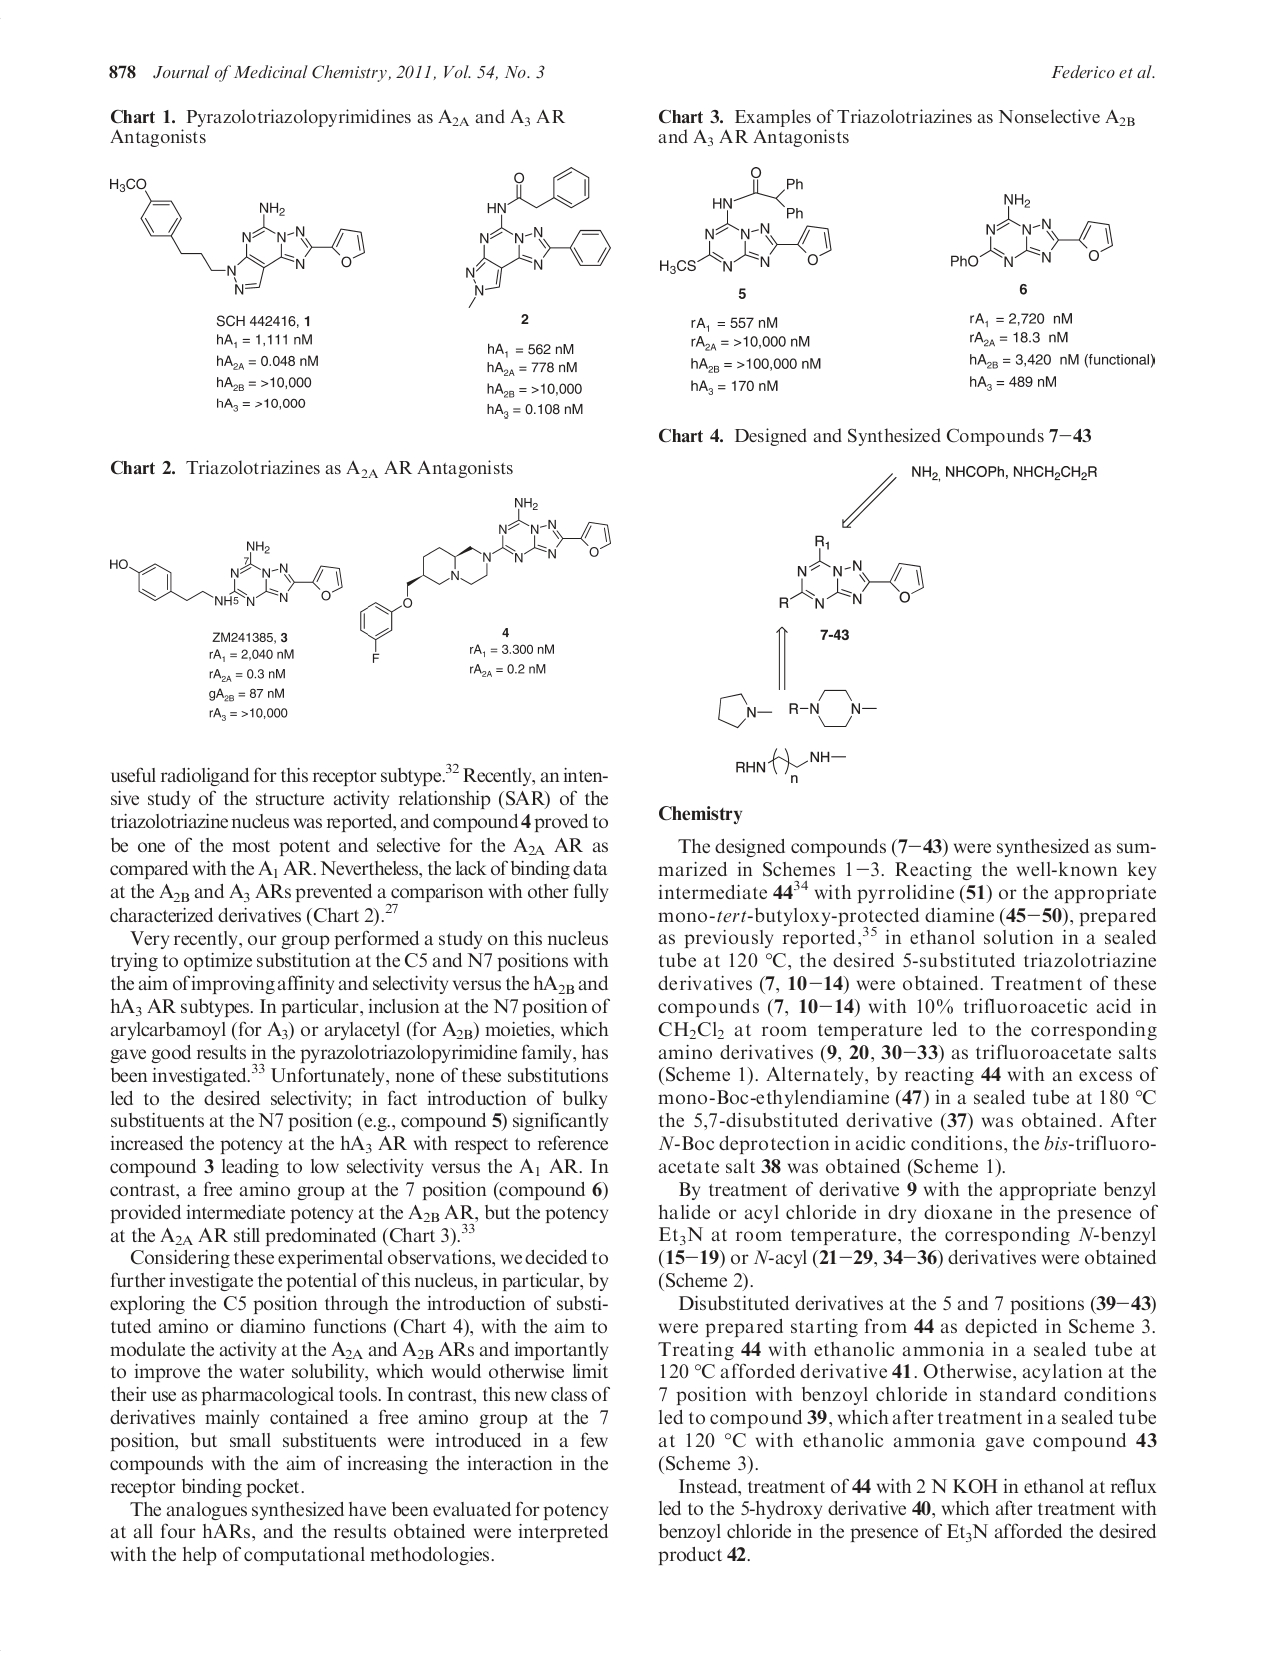exist_molecular: (356, 493, 617, 664), (102, 170, 372, 303), (463, 152, 614, 313), (97, 523, 347, 614), (650, 164, 838, 281), (943, 177, 1116, 277), (770, 528, 932, 614), (730, 743, 852, 786), (786, 686, 875, 734), (711, 688, 777, 733)
